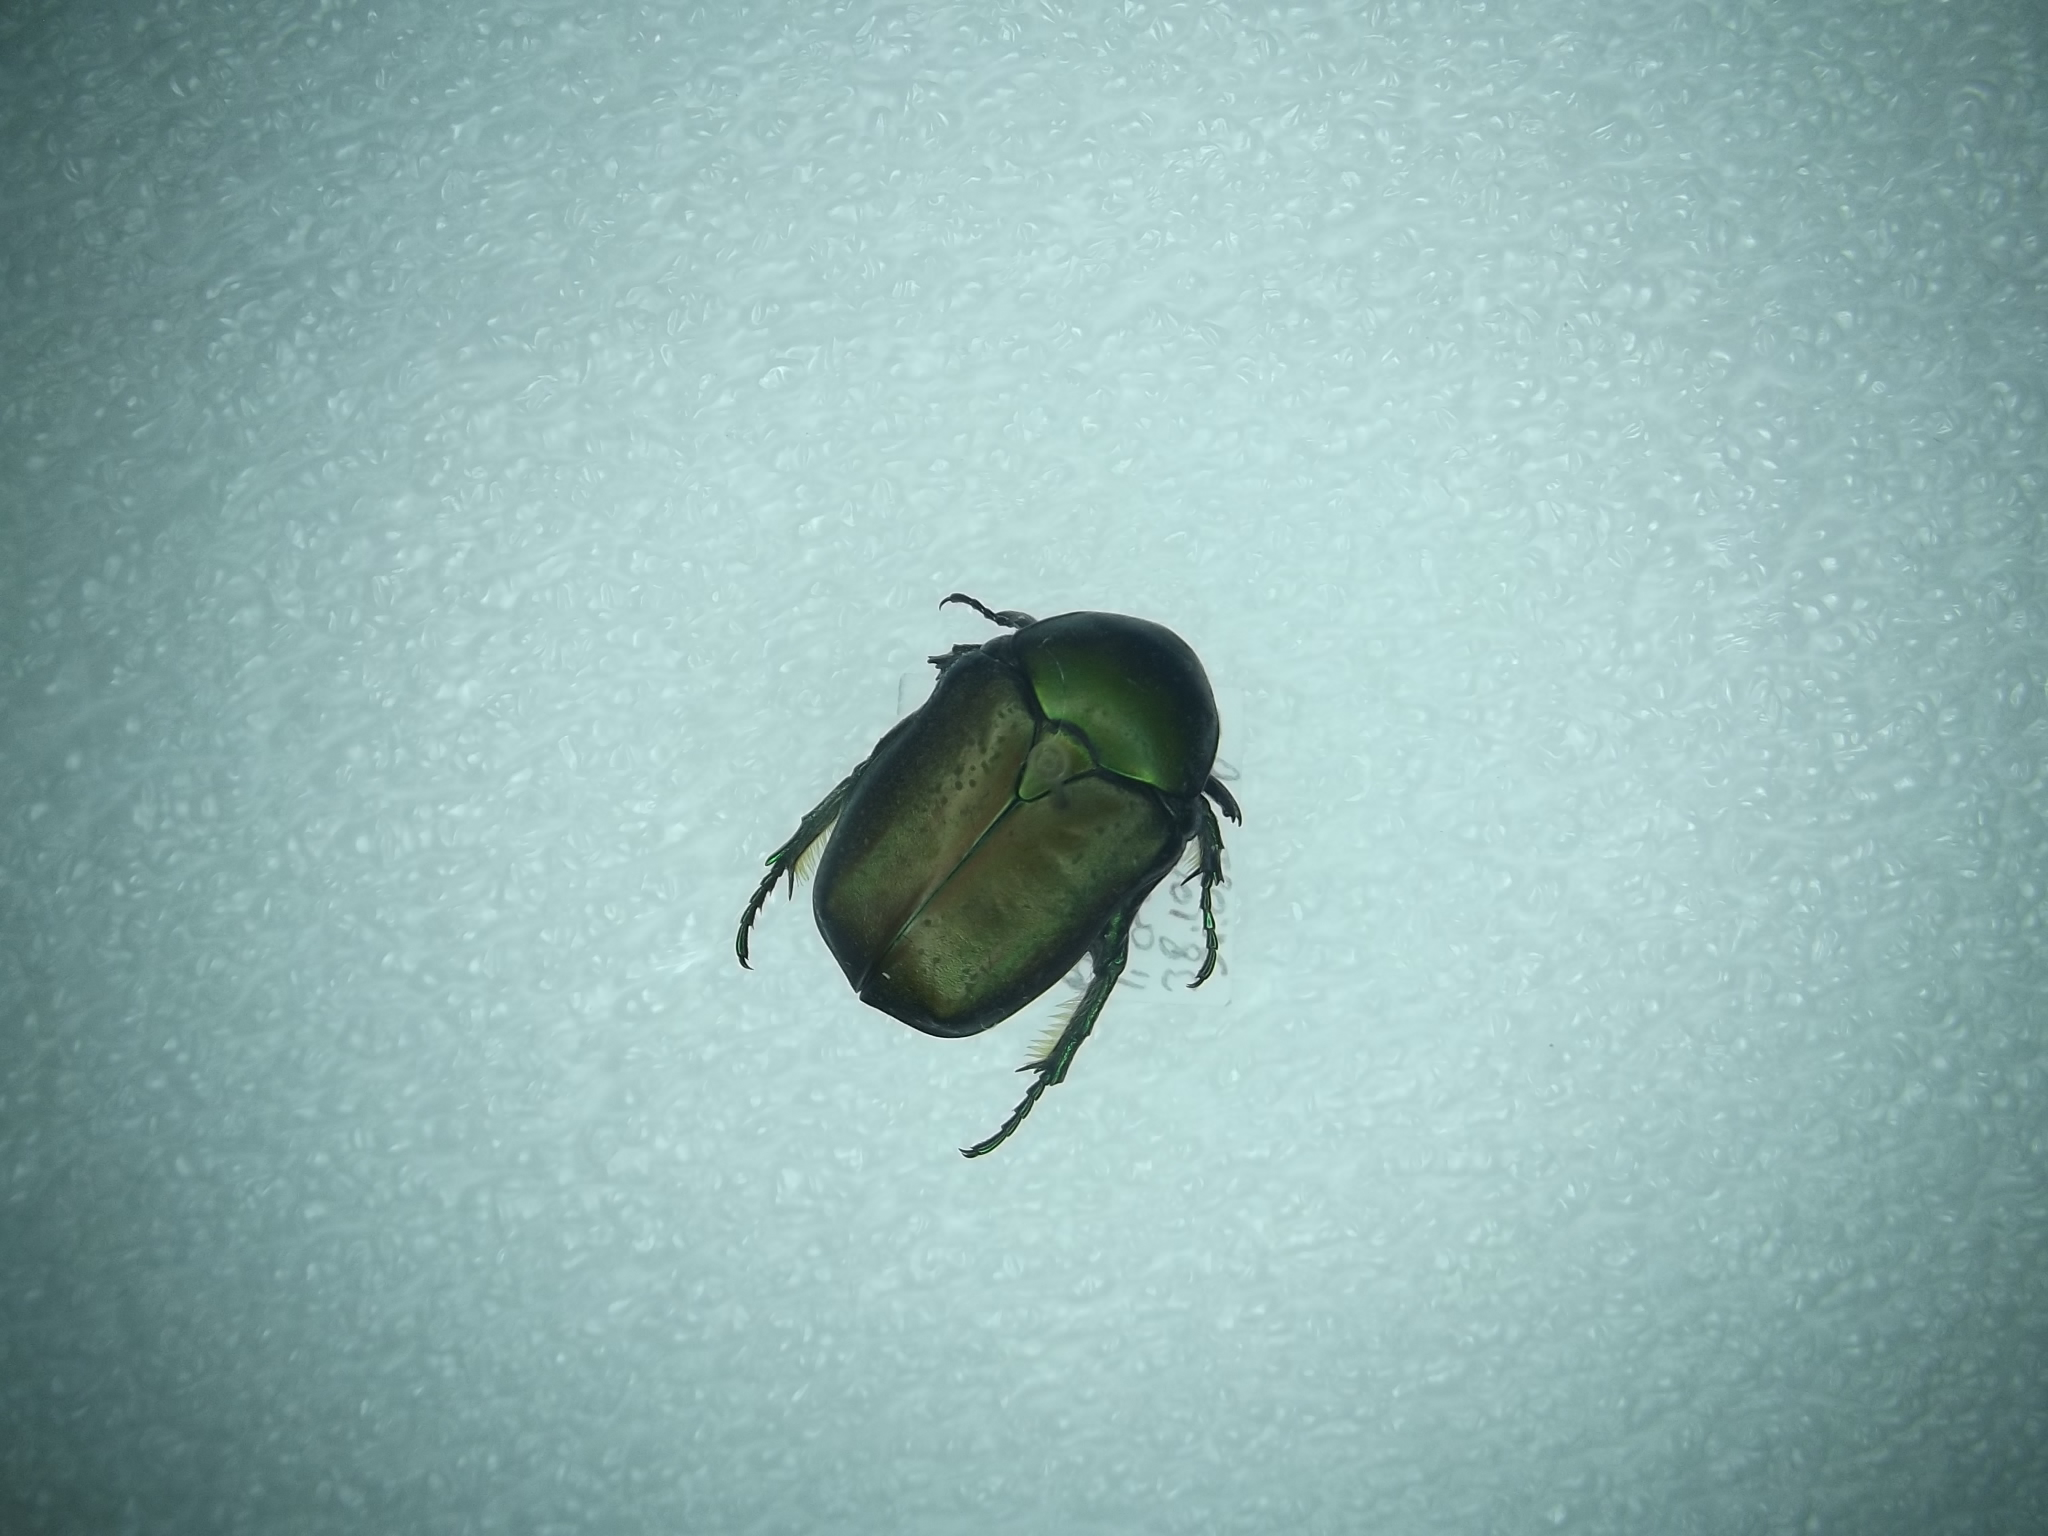Protaetia_ungarica_americana: (706, 563, 1274, 1176)
